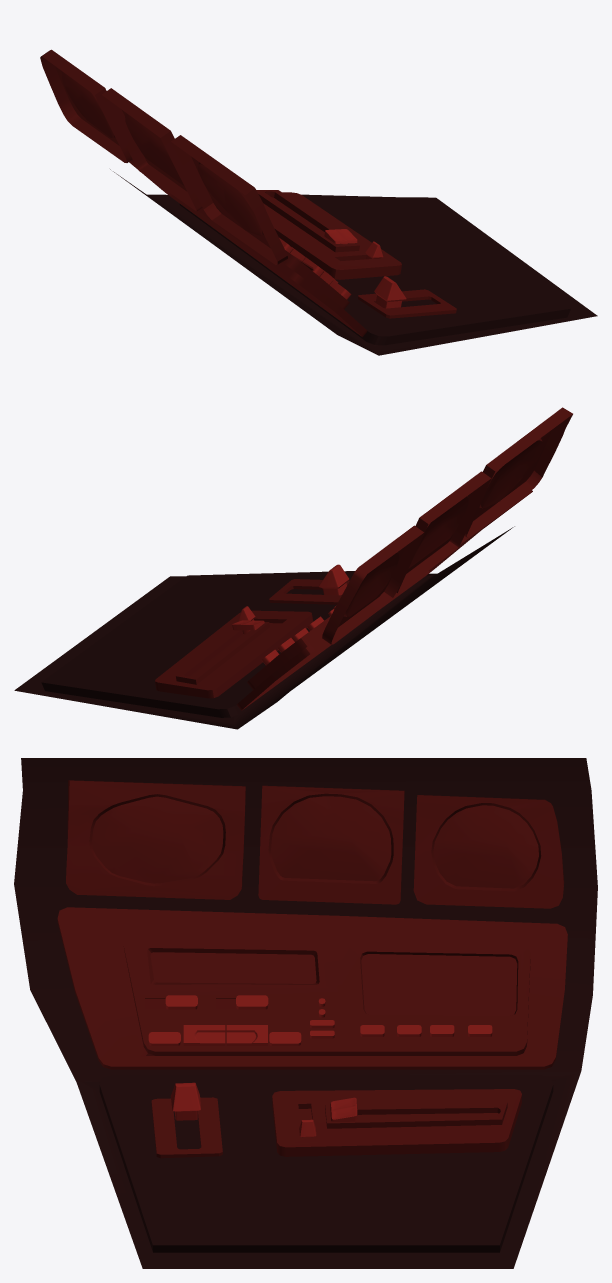
File: MenuLP.fbx
3 views of the same model, one above another, from view 1: azimuth 30°, elevation 25°; view 2: azimuth 150°, elevation 25°; view 3: azimuth 270°, elevation 25° (orthographic). The views are drawn at different scales.
Visible parts, largest first — view 1: pCube1, pCube30, pCube4, pCube2, pCube3, pCube20, pCube34, pCube33; view 2: pCube1, pCube30, pCube4, pCube3, pCube2, pCube20, pCube34, pCube33; view 3: pCube1, pCube20, pCube4, pCube2, pCube3, pCube30, pCube34, pCube33, pCube16, pCube15.
Part boxes in pixels (left/top/right/bottom): pCube1: left=110, top=169, right=597, bottom=355; pCube30: left=256, top=190, right=401, bottom=279; pCube4: left=171, top=135, right=287, bottom=265; pCube2: left=102, top=88, right=202, bottom=211; pCube3: left=40, top=49, right=132, bottom=162; pCube20: left=129, top=160, right=367, bottom=336; pCube34: left=358, top=289, right=456, bottom=318; pCube33: left=374, top=276, right=406, bottom=308; pCube1: left=14, top=526, right=514, bottom=729; pCube30: left=155, top=610, right=313, bottom=698; pCube4: left=464, top=407, right=572, bottom=537; pCube3: left=322, top=525, right=424, bottom=644; pCube2: left=396, top=471, right=491, bottom=593; pCube20: left=237, top=490, right=532, bottom=710; pCube34: left=269, top=579, right=349, bottom=604; pCube33: left=318, top=564, right=348, bottom=595; pCube1: left=14, top=758, right=597, bottom=1268; pCube20: left=57, top=907, right=567, bottom=1069; pCube4: left=66, top=780, right=245, bottom=899; pCube2: left=258, top=785, right=404, bottom=904; pCube3: left=413, top=795, right=564, bottom=908; pCube30: left=272, top=1089, right=521, bottom=1156; pCube34: left=151, top=1097, right=222, bottom=1158; pCube33: left=170, top=1082, right=200, bottom=1120; pCube16: left=183, top=1025, right=225, bottom=1045; pCube15: left=226, top=1025, right=267, bottom=1045.
Bounding box in the file's own units: 39.31 × 24.57 × 44.45.
